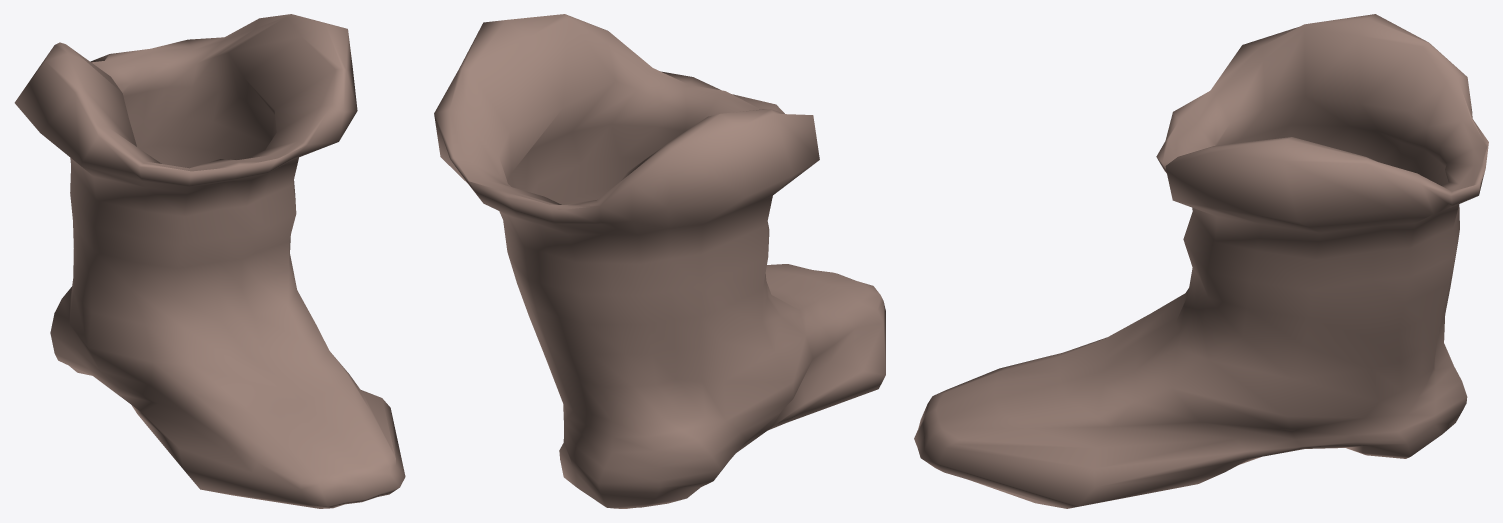
File: calzado_camperas.glb
3 renders of one model, left to right at view 1: azimuth 30°, elevation 25°; view 2: azimuth 150°, elevation 25°; view 3: azimuth 270°, elevation 25°, orthographic. The views are drawn at different scales.
Visible parts, largest first — view 1: pieza; view 2: pieza; view 3: pieza.
Part boxes in pixels (x1,y1,x2,y2): pieza: (14, 14, 405, 508); pieza: (434, 14, 885, 508); pieza: (914, 14, 1488, 508).
Bounding box in the file's own units: 0.3 × 0.34 × 0.44.
